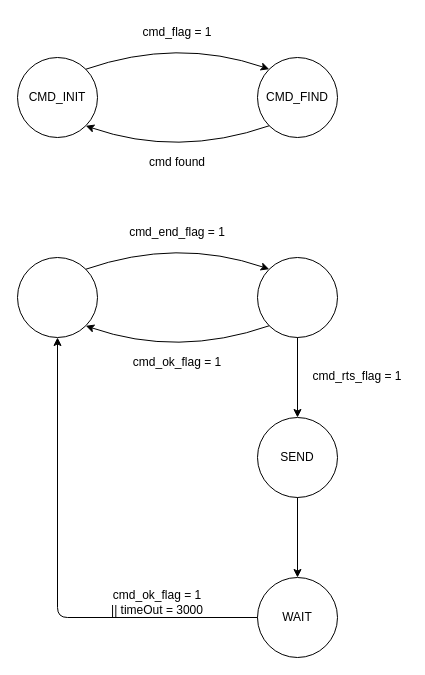
Image size: 425x675. Some labels were removed from this diagram. The centre of each missing label's shape, as x and y in pixels:
CMDCHECK: the point at 297,297
IDLE: the point at 57,297
